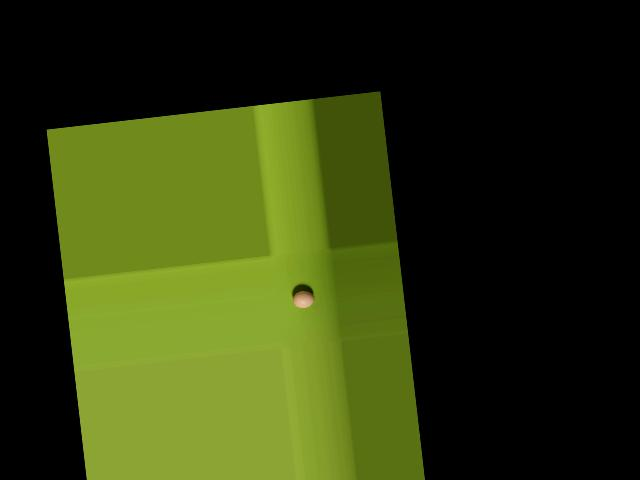egg: (292, 289, 316, 308)
